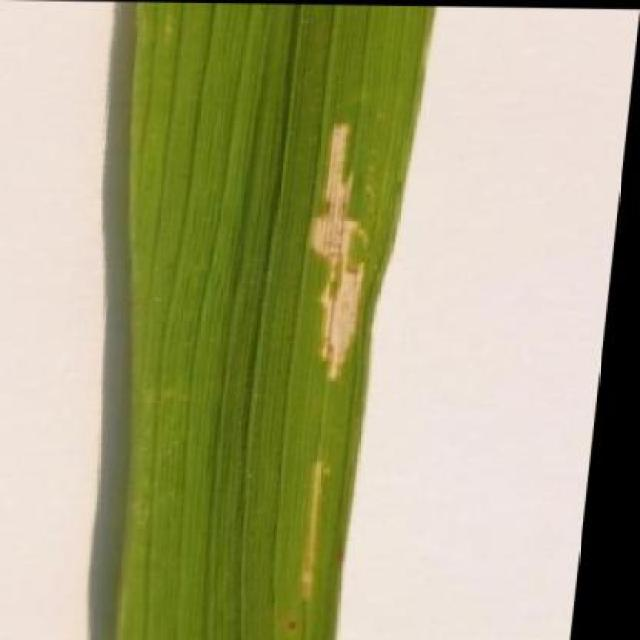Brown_Spot: (80, 1, 437, 640)
